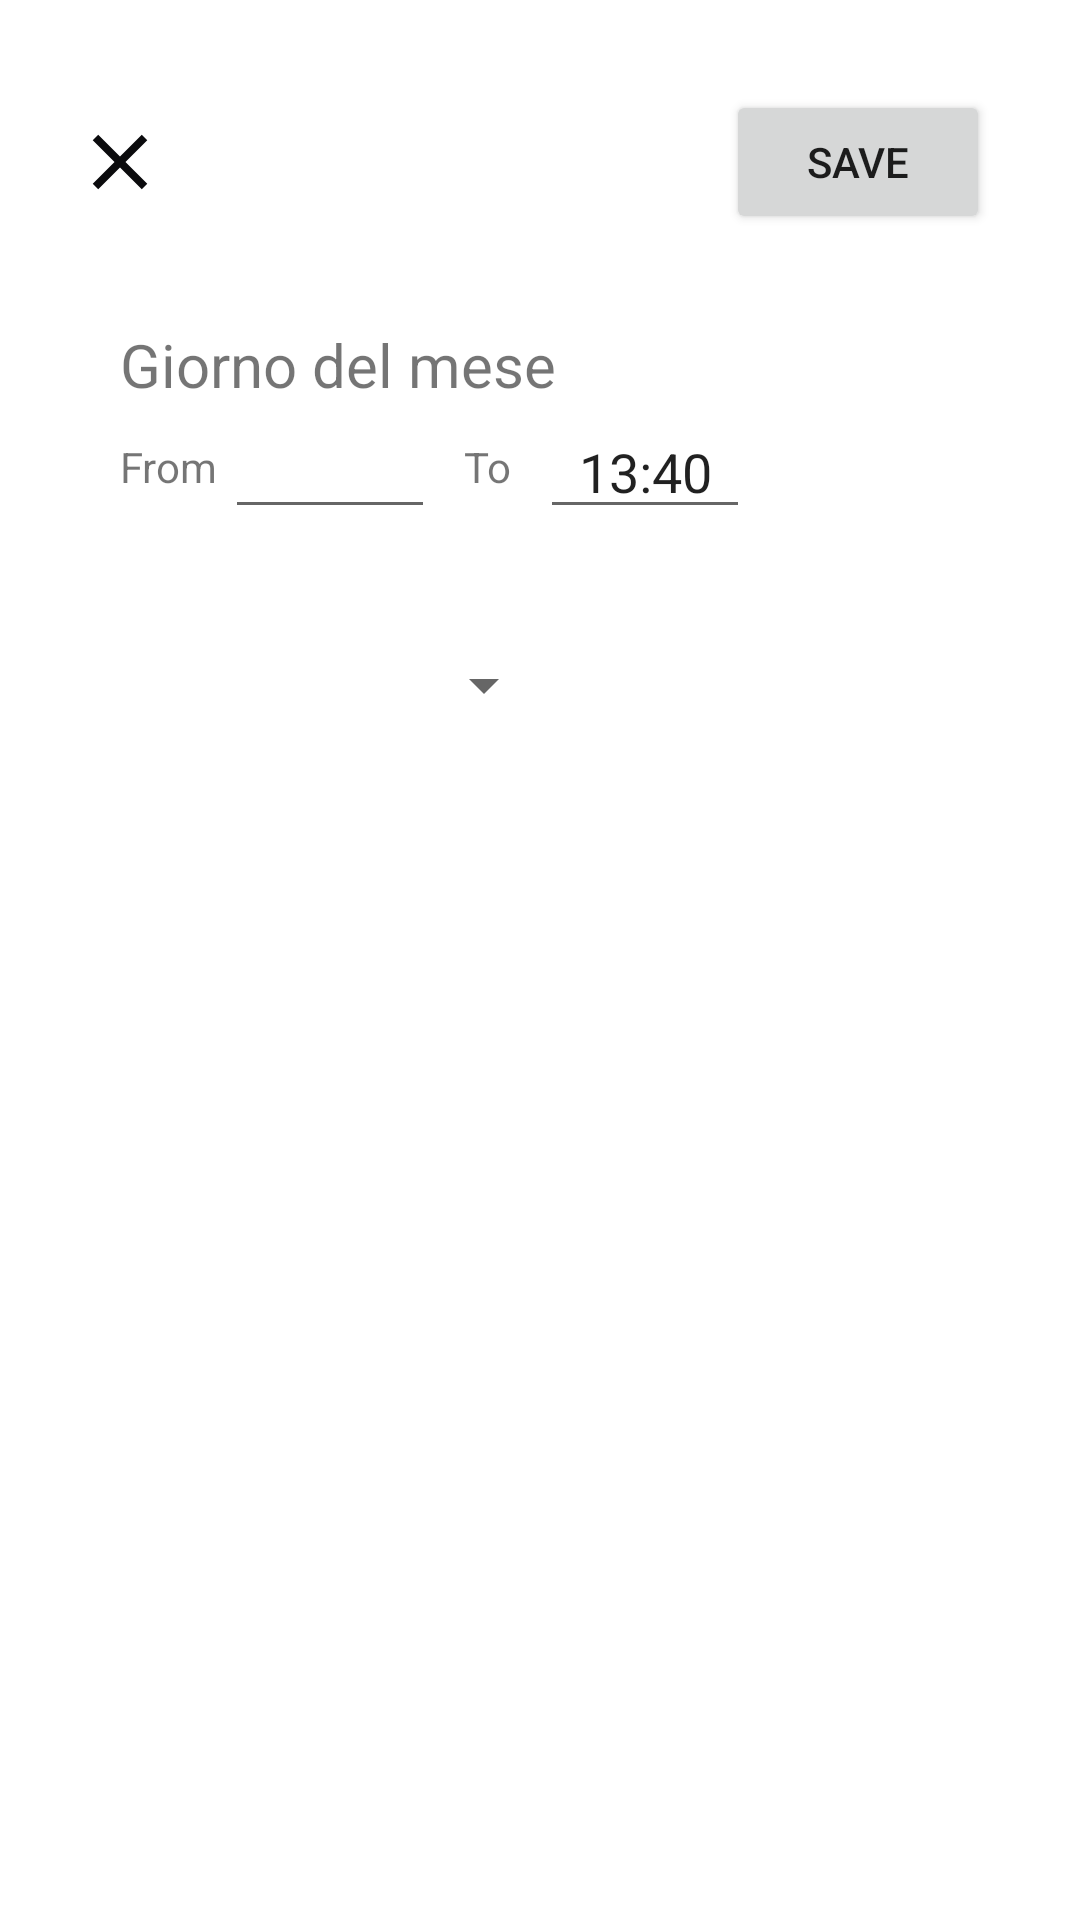

Named icons in this screenshot (1080w x 1920h) and their centers, (x=x, y=y):
close: (x=120, y=162)
